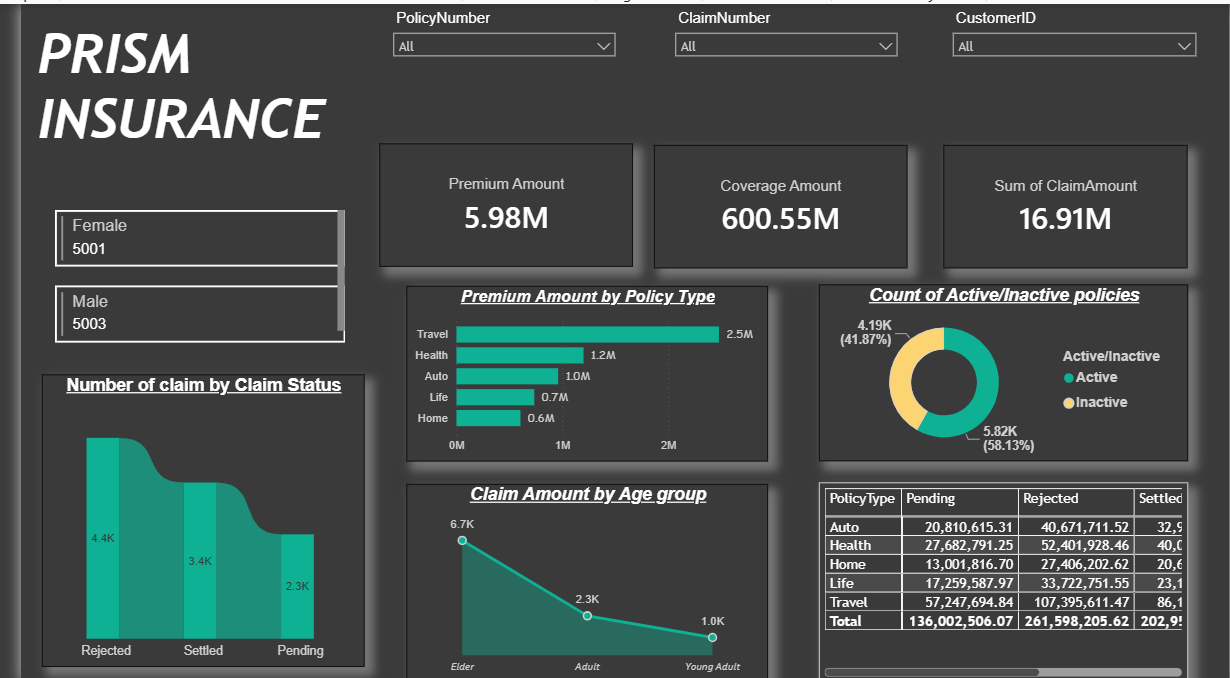

What the dashboard file says about the page in this screenshot:
{"tool":"powerbi","page":{"name":"Page 1","canvas":[1280,720],"ordinal":0},"visuals":[{"type":"slicer","fields":{"Values":["InsuranceData.PolicyNumber"]},"box":[385.5,0,255.1,122.8],"z":0},{"type":"slicer","fields":{"Values":["InsuranceData.ClaimNumber"]},"box":[684.1,0,255.1,122.8],"z":1000},{"type":"slicer","fields":{"Values":["InsuranceData.CustomerID"]},"box":[978.9,0,277.8,122.8],"z":2000},{"type":"textbox","box":[13.2,13.2,349.6,232.4],"z":3000},{"type":"cardVisual","fields":{"Data":["Sum(InsuranceData.PremiumAmount)"]},"box":[379.8,147.4,268.3,130.4],"z":4000},{"type":"cardVisual","fields":{"Data":["Sum(InsuranceData.CoverageAmount)"]},"box":[670.9,149.3,268.3,130.4],"z":5000},{"type":"cardVisual","fields":{"Data":["Sum(InsuranceData.ClaimAmount)"]},"box":[978.9,149.3,258.9,130.4],"z":6000},{"type":"multiRowCard","fields":{"Values":["InsuranceData.Gender","CountNonNull(InsuranceData.Gender)"]},"box":[30.2,260.8,317.5,155],"z":7000},{"type":"ribbonChart","title":"Number of claim by Claim Status","fields":{"Category":["InsuranceData.ClaimStatus"],"Y":["CountNonNull(InsuranceData.ClaimStatus)"]},"box":[30.2,438.4,332.6,257],"z":8000},{"type":"barChart","title":"PremiumAmount by Policy Type","fields":{"Category":["InsuranceData.PolicyType"],"Y":["Sum(InsuranceData.PremiumAmount)"]},"box":[408.8,299,383.3,186.1],"z":9000},{"type":"lineChart","title":"Claim Amount by Age group","fields":{"Category":["InsuranceData.Age group"],"Y":["CountNonNull(InsuranceData.ClaimNumber)"]},"box":[408.2,508.4,383.6,211.7],"z":10000},{"type":"donutChart","title":"Count of Active/Inactive policies","fields":{"Category":["InsuranceData.Active/Inactive"],"Y":["CountNonNull(InsuranceData.Active/Inactive)"]},"box":[846.6,296.7,391.2,187.1],"z":11000},{"type":"pivotTable","fields":{"Values":["Sum(InsuranceData.CoverageAmount)"],"Columns":["InsuranceData.ClaimStatus"],"Rows":["InsuranceData.PolicyType"]},"box":[847,508,391,212],"z":12000}]}

Visuals, with their boxes in screenshot pixels (x1, y1, x2, y2), scaled from the page's 1280x720 canvas onto the 1230x678 screenshot:
slicer - InsuranceData.PolicyNumber: select_region(370, 0, 616, 116)
slicer - InsuranceData.ClaimNumber: select_region(657, 0, 903, 116)
slicer - InsuranceData.CustomerID: select_region(941, 0, 1208, 116)
textbox: select_region(13, 12, 349, 231)
cardVisual - Sum(InsuranceData.PremiumAmount): select_region(365, 139, 623, 262)
cardVisual - Sum(InsuranceData.CoverageAmount): select_region(645, 141, 903, 263)
cardVisual - Sum(InsuranceData.ClaimAmount): select_region(941, 141, 1189, 263)
multiRowCard - InsuranceData.Gender x CountNonNull(InsuranceData.Gender): select_region(29, 246, 334, 392)
"Number of claim by Claim Status" ribbonChart: select_region(29, 413, 349, 655)
"PremiumAmount by Policy Type" barChart: select_region(393, 282, 761, 457)
"Claim Amount by Age group" lineChart: select_region(392, 479, 761, 677)
"Count of Active/Inactive policies" donutChart: select_region(814, 279, 1189, 456)
pivotTable - Sum(InsuranceData.CoverageAmount) x InsuranceData.ClaimStatus: select_region(814, 478, 1190, 677)
